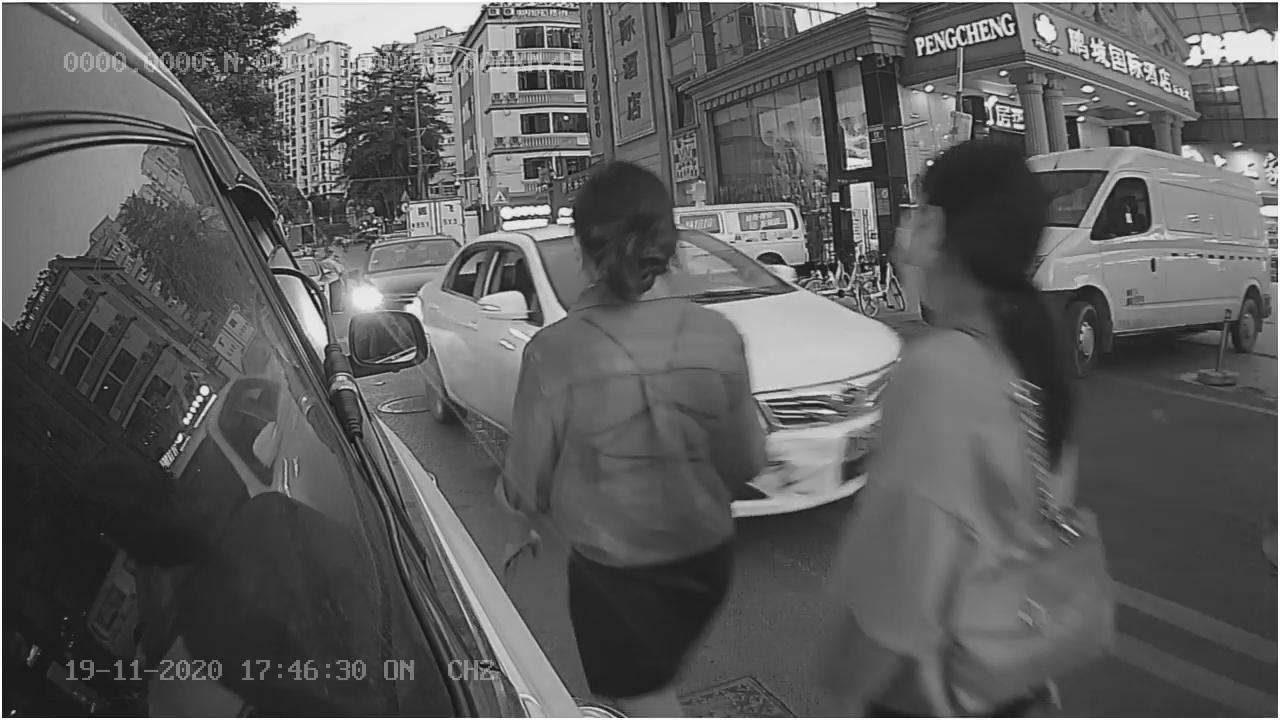person: (870, 157, 1105, 678), (505, 164, 759, 611)
